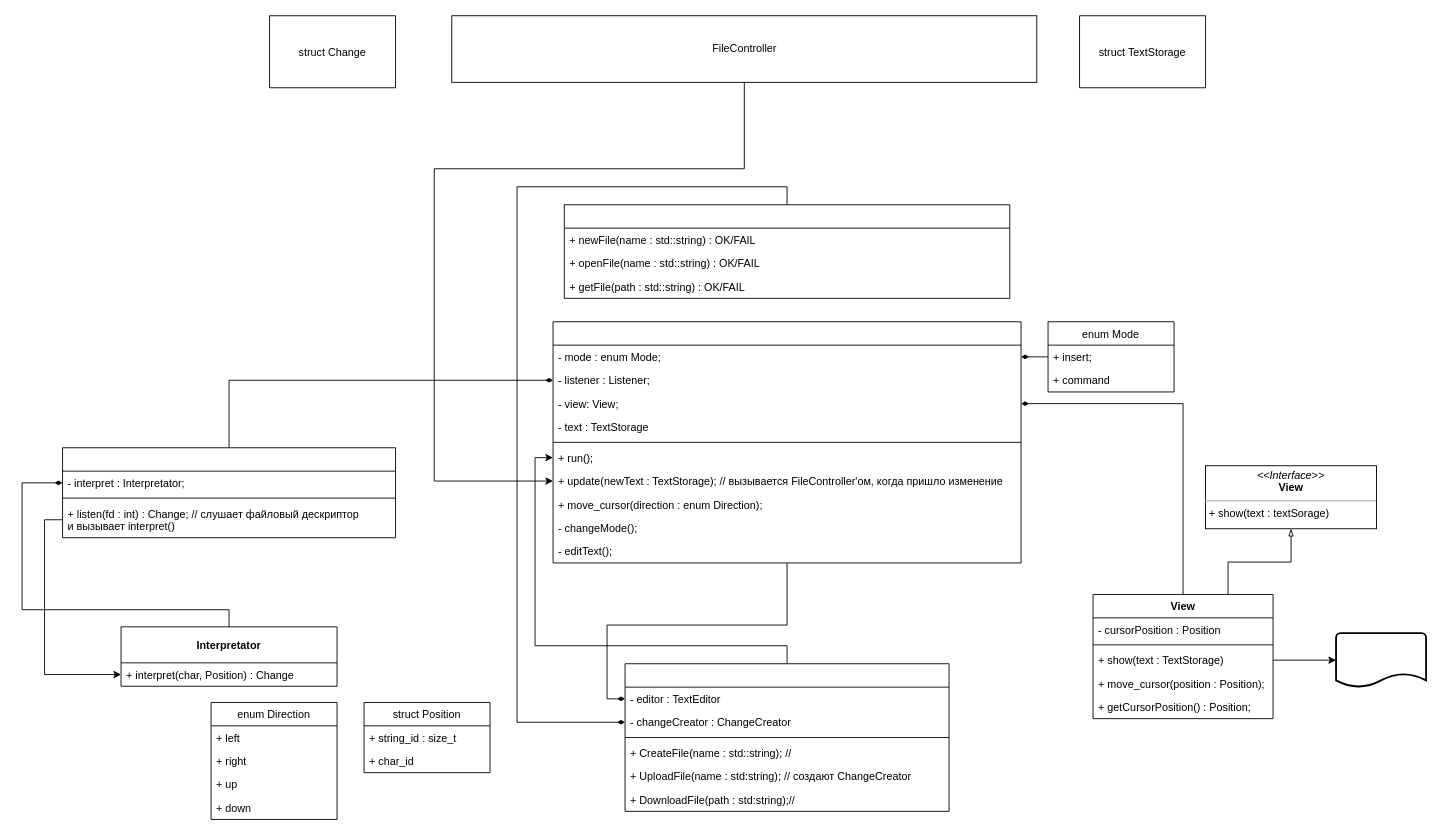
This 1443x838 diagram has some shape labels left out. Each missing label, with the box of its shape:
ChangeCreator: (563, 204, 1010, 298)
Listener: (62, 447, 396, 538)
StartInterface: (624, 663, 949, 811)
stdout: (1335, 632, 1426, 688)
TextEditor: (552, 321, 1021, 563)
